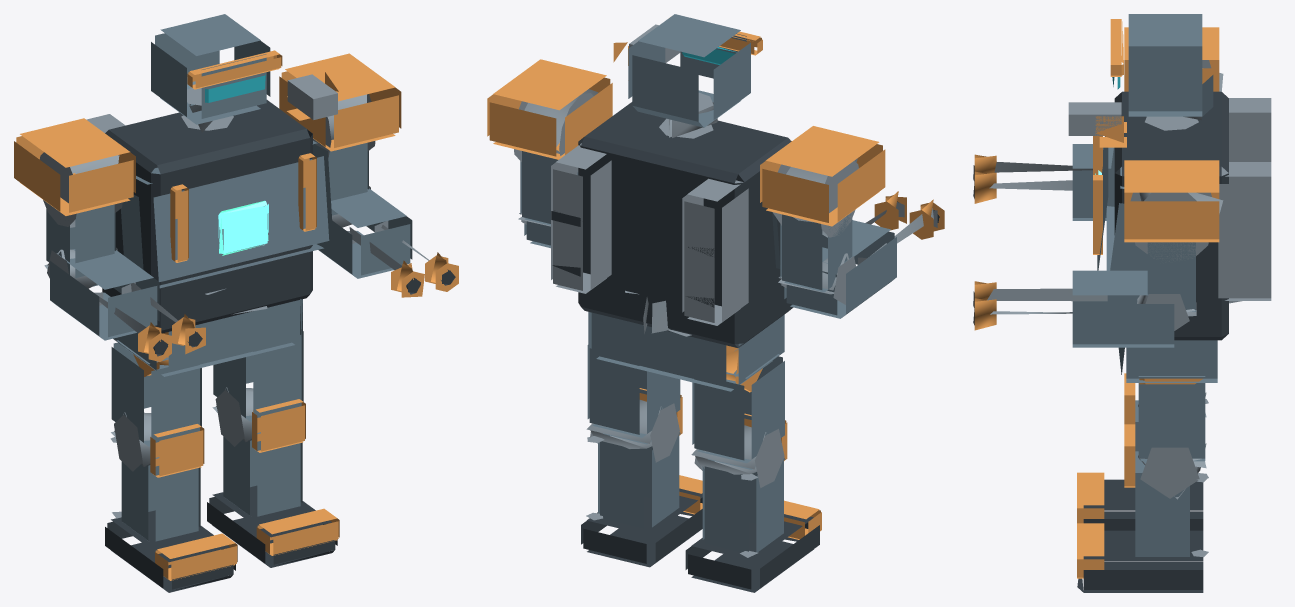
Rendered from boss-quad-mech.glb.
3 renders of one model, left to right at view 1: azimuth 30°, elevation 25°; view 2: azimuth 150°, elevation 25°; view 3: azimuth 270°, elevation 25°, orthographic. The views are drawn at different scales.
Visible parts, largest first — view 1: Sloped breastplate, Torso skeleton, Thigh armor, Thigh armor.001, Shoulder plate, Upper arm, Shoulder plate.001, Upper arm.001, Pelvic armor, Hip bearing, Hip bearing.001, Chest armor rib (+10 smaller); view 2: Torso skeleton, Back power unit, Thigh armor, Thigh armor.001, Shoulder plate, Sloped breastplate, Upper arm, Shoulder plate.001, Pelvic armor, Armored foot, Armored foot.001, Shoulder bearing (+7 smaller); view 3: Back power unit, Sloped breastplate, Upper arm.001, Thigh armor.001, Torso skeleton, Shoulder plate.001, Armored foot.001, Shoulder bearing.001, Pelvic armor, Knee servo.001, Hip bearing.001, Armored foot (+7 smaller).
Boxes of the visible parts, x1=… form: Sloped breastplate: x1=121, y1=14, x2=333, y2=288; Torso skeleton: x1=102, y1=100, x2=312, y2=333; Thigh armor: x1=111, y1=340, x2=201, y2=541; Thigh armor.001: x1=213, y1=331, x2=303, y2=516; Shoulder plate: x1=14, y1=118, x2=205, y2=361; Upper arm: x1=46, y1=204, x2=159, y2=340; Shoulder plate.001: x1=279, y1=53, x2=458, y2=297; Upper arm.001: x1=314, y1=142, x2=412, y2=278; Pelvic armor: x1=113, y1=299, x2=302, y2=376; Hip bearing: x1=133, y1=332, x2=237, y2=580; Hip bearing.001: x1=252, y1=399, x2=339, y2=555; Chest armor rib: x1=170, y1=50, x2=316, y2=262; Torso skeleton: x1=551, y1=102, x2=793, y2=347; Back power unit: x1=551, y1=92, x2=748, y2=325; Thigh armor: x1=692, y1=348, x2=784, y2=552; Thigh armor.001: x1=587, y1=345, x2=680, y2=528; Shoulder plate: x1=760, y1=126, x2=944, y2=239; Sloped breastplate: x1=628, y1=14, x2=780, y2=268; Upper arm: x1=780, y1=213, x2=896, y2=318; Shoulder plate.001: x1=487, y1=59, x2=612, y2=159; Pelvic armor: x1=588, y1=312, x2=784, y2=391; Armored foot: x1=685, y1=514, x2=819, y2=592; Armored foot.001: x1=581, y1=488, x2=702, y2=567; Shoulder bearing: x1=772, y1=158, x2=937, y2=304; Back power unit: x1=1145, y1=98, x2=1271, y2=300; Sloped breastplate: x1=1097, y1=14, x2=1213, y2=270; Upper arm.001: x1=1072, y1=242, x2=1195, y2=347; Thigh armor.001: x1=1135, y1=376, x2=1205, y2=556; Torso skeleton: x1=1114, y1=91, x2=1228, y2=340; Shoulder plate.001: x1=974, y1=160, x2=1219, y2=330; Armored foot.001: x1=1077, y1=530, x2=1203, y2=592; Shoulder bearing.001: x1=987, y1=192, x2=1223, y2=330; Pelvic armor: x1=1118, y1=340, x2=1217, y2=382; Knee servo.001: x1=1138, y1=443, x2=1208, y2=557; Hip bearing.001: x1=1077, y1=378, x2=1202, y2=578; Armored foot: x1=1083, y1=479, x2=1203, y2=530.
Bounding box in the file's own units: 4.42 × 6.31 × 3.36.
